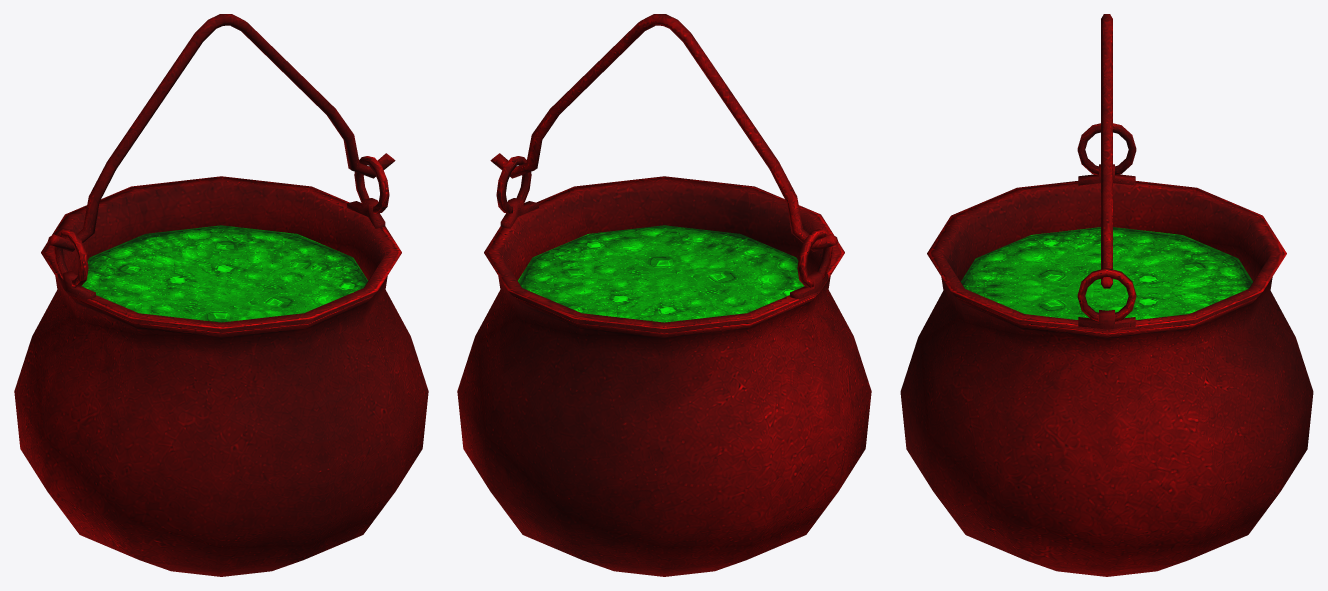
The model's file is CookingPot01.fbx.
3 views of the same model, side by side, from view 1: azimuth 30°, elevation 25°; view 2: azimuth 150°, elevation 25°; view 3: azimuth 270°, elevation 25° (orthographic).
Visible parts, largest first — view 1: CookingPot01_LOD0, Contents01_LOD0, Handle01_LOD0; view 2: CookingPot01_LOD0, Contents01_LOD0, Handle01_LOD0; view 3: CookingPot01_LOD0, Contents01_LOD0, Handle01_LOD0.
Part boxes in pixels (<box>): CookingPot01_LOD0: <box>14,156,428,576</box>; Contents01_LOD0: <box>81,225,367,322</box>; Handle01_LOD0: <box>47,14,395,251</box>; CookingPot01_LOD0: <box>457,156,871,576</box>; Contents01_LOD0: <box>518,225,804,322</box>; Handle01_LOD0: <box>490,14,838,251</box>; CookingPot01_LOD0: <box>900,123,1313,576</box>; Contents01_LOD0: <box>961,227,1252,319</box>; Handle01_LOD0: <box>1101,14,1112,288</box>.
Size of what is drawn, in the model's own units: 0.3372 by 0.4776 by 0.3372.
